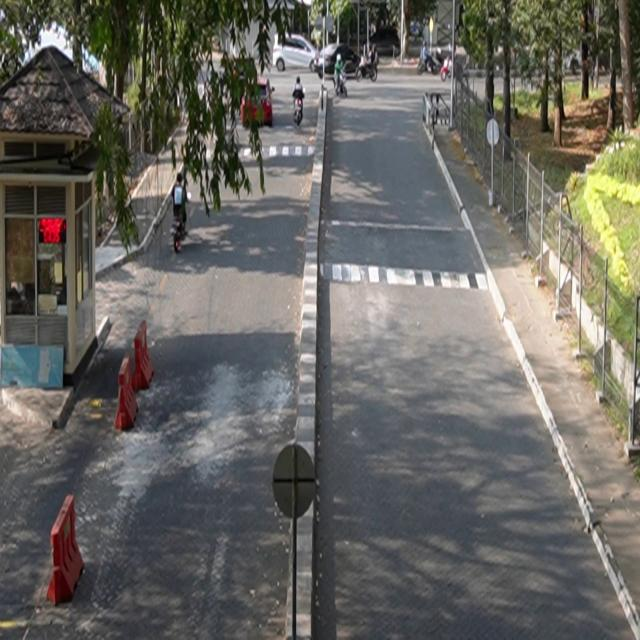car: (273, 34, 319, 73), (241, 77, 275, 129), (317, 44, 362, 79)
